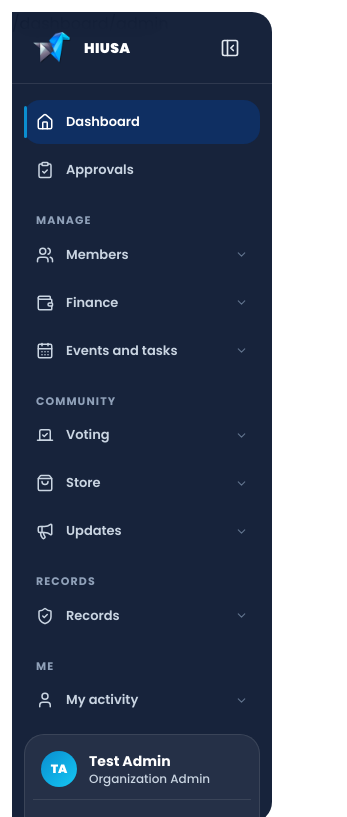
desktop sidebar rail › collapses into labeled icon links and opens grouped routes on click
The width and height of the screenshot is (347, 817).
Click the button named "Collapse sidebar" at point(230, 48), box [208,26,252,70]
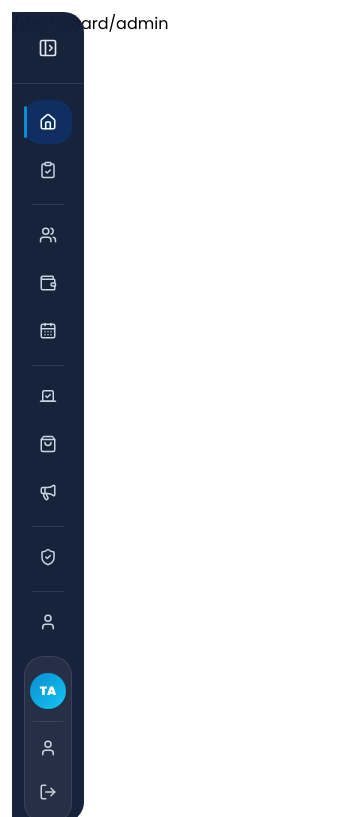
Expected: the button named "Expand sidebar" is shown, [26,26,70,70]
Click the button named "Finance" at point(48, 283), box [24,261,72,305]
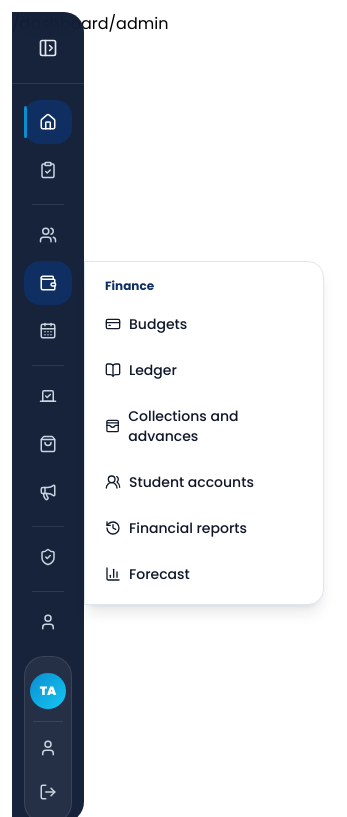
Expected: the button named "Finance" is expanded, [24,261,72,305]
Expected: the element named "Finance links" is shown, [84,261,324,605]
Click the link "Budgets" at point(146, 324), box [105,314,187,334]
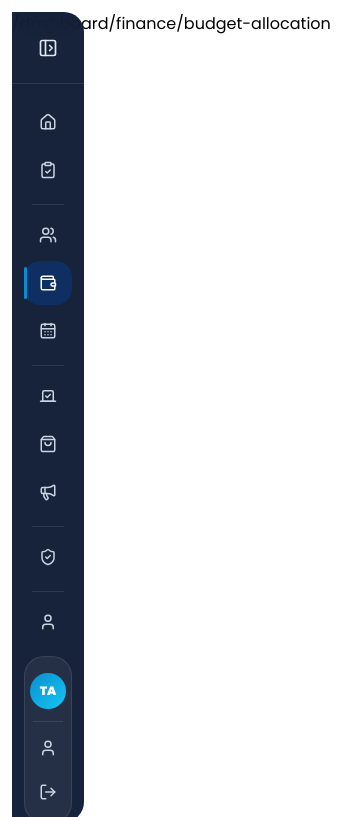
Expected: the text with test id "route" reads "/dashboard/finance/budget-allocation", [12,12,331,35]
